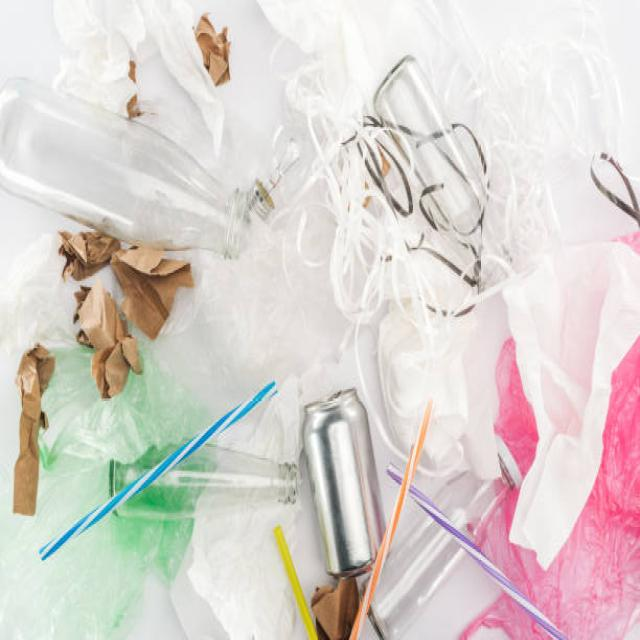glass: (1, 78, 238, 298)
metal: (297, 394, 402, 574)
paper: (4, 237, 198, 403)
